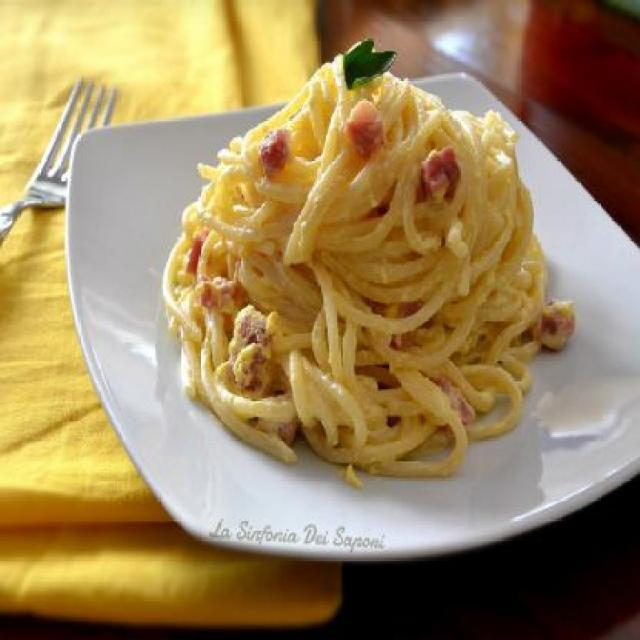Pasta with carbonara sauce: (147, 32, 626, 516)
